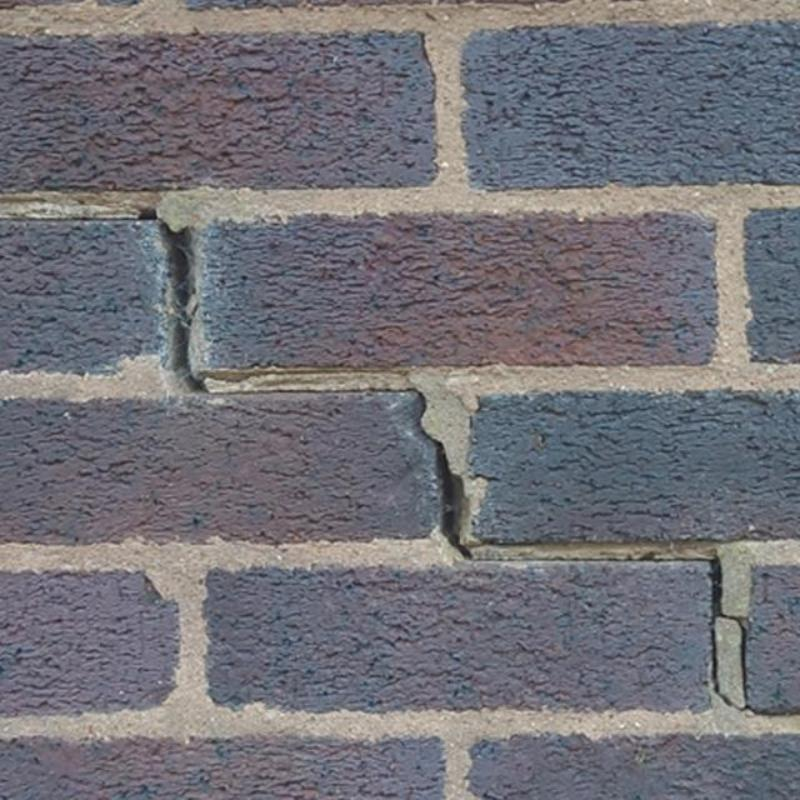pothole: (138, 207, 209, 394), (408, 388, 473, 559), (710, 557, 758, 715), (210, 388, 408, 396), (471, 556, 711, 562)
